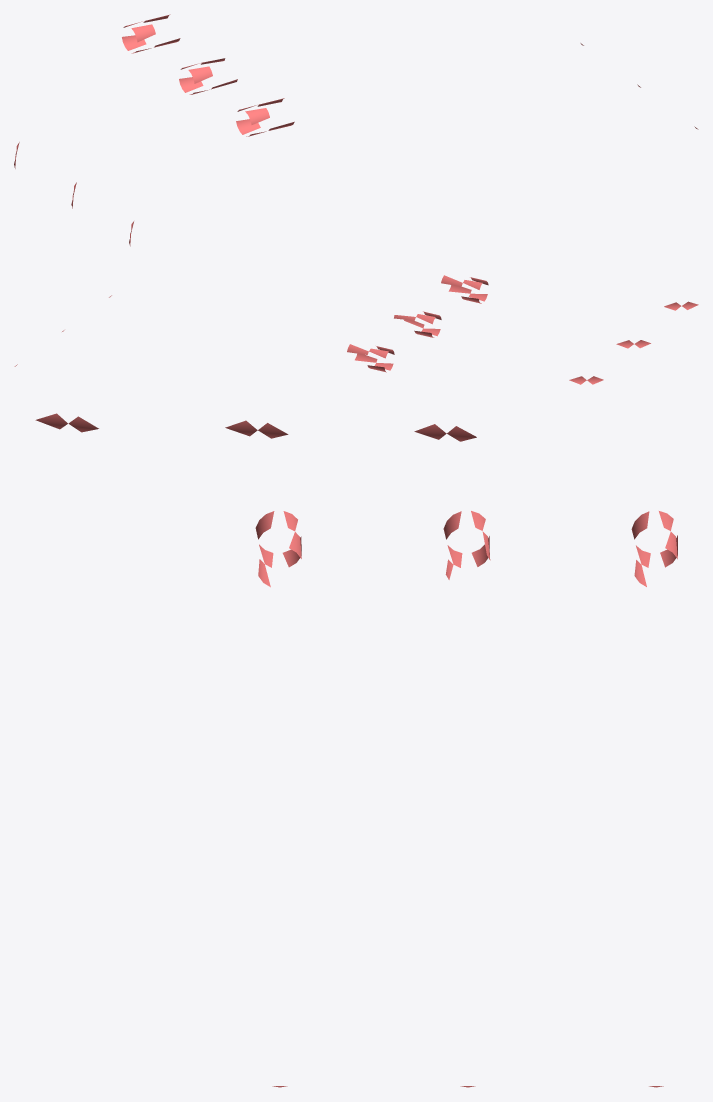
File: hor_Anschlussplatte_Rep.dae
The picture shows the model from 3 angles, top to bottom: view 1: azimuth 30°, elevation 25°; view 2: azimuth 150°, elevation 25°; view 3: azimuth 270°, elevation 25°; orthographic projection. The views are drawn at different scales.
Parts seen in each view (by area): view 1: hor_Anschlussplatte; view 2: hor_Anschlussplatte; view 3: hor_Anschlussplatte.
Boxes of the visible parts, x1,y1,x2,y2 form: hor_Anschlussplatte: [14, 14, 698, 246]; hor_Anschlussplatte: [14, 275, 698, 384]; hor_Anschlussplatte: [35, 413, 677, 1087].
Size of the model in its own units: 518 by 273 by 99.74.
